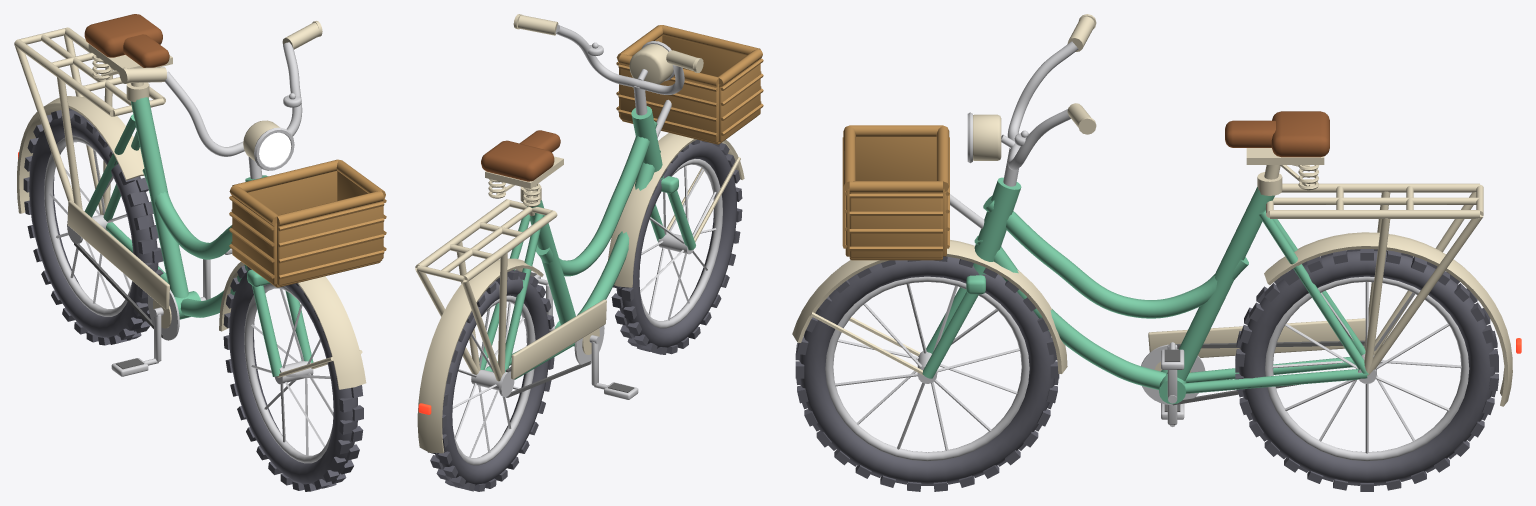
File: bicycle.glb
The picture shows the model from 3 angles, left to right: view 1: azimuth 30°, elevation 25°; view 2: azimuth 150°, elevation 25°; view 3: azimuth 270°, elevation 25°; orthographic projection. The views are drawn at different scales.
Visible parts, largest first — view 1: Кермо, Рама, Колесо_З, Колесо_П, Шатуни, Педаль_П; view 2: Рама, Кермо, Колесо_П, Колесо_З, Шатуни, Педаль_П; view 3: Рама, Колесо_З, Кермо, Колесо_П, Шатуни.
Boxes of the visible parts, x1,y1,x2,y2 form: Кермо: (119,21,386,389); Рама: (14,14,267,337); Колесо_З: (23,108,163,345); Колесо_П: (223,265,363,491); Шатуни: (148,259,210,361); Педаль_П: (111,358,158,376); Рама: (415,106,663,453); Кермо: (513,14,763,287); Колесо_П: (611,139,742,354); Колесо_З: (428,270,554,491); Шатуни: (546,284,604,385); Педаль_П: (594,382,638,399); Рама: (973,111,1521,406); Колесо_З: (1235,249,1498,491); Кермо: (792,14,1096,378); Колесо_П: (795,256,1059,491); Шатуни: (1141,344,1205,424).
Size of the model in its own units: 0.636 by 1.19 by 1.88.
